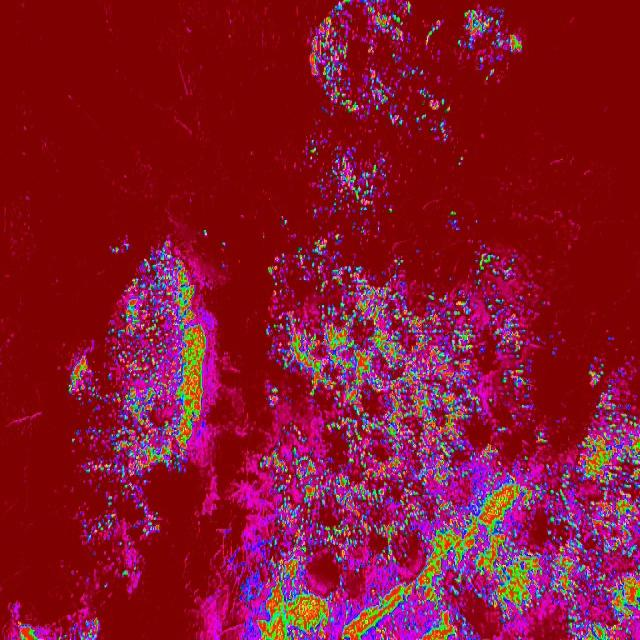fire: (266, 250, 540, 640), (119, 239, 208, 469), (69, 345, 159, 559), (306, 0, 524, 84), (580, 354, 640, 640), (302, 142, 401, 234), (540, 434, 580, 640), (224, 445, 266, 640), (322, 84, 453, 146), (15, 615, 100, 640)
